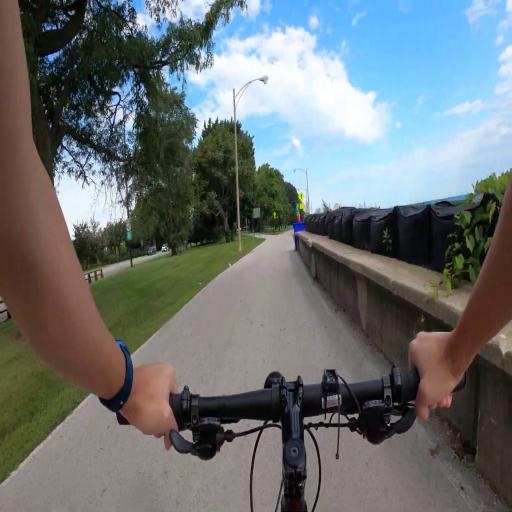Street_Light: (231, 67, 270, 252), (292, 165, 312, 223)
